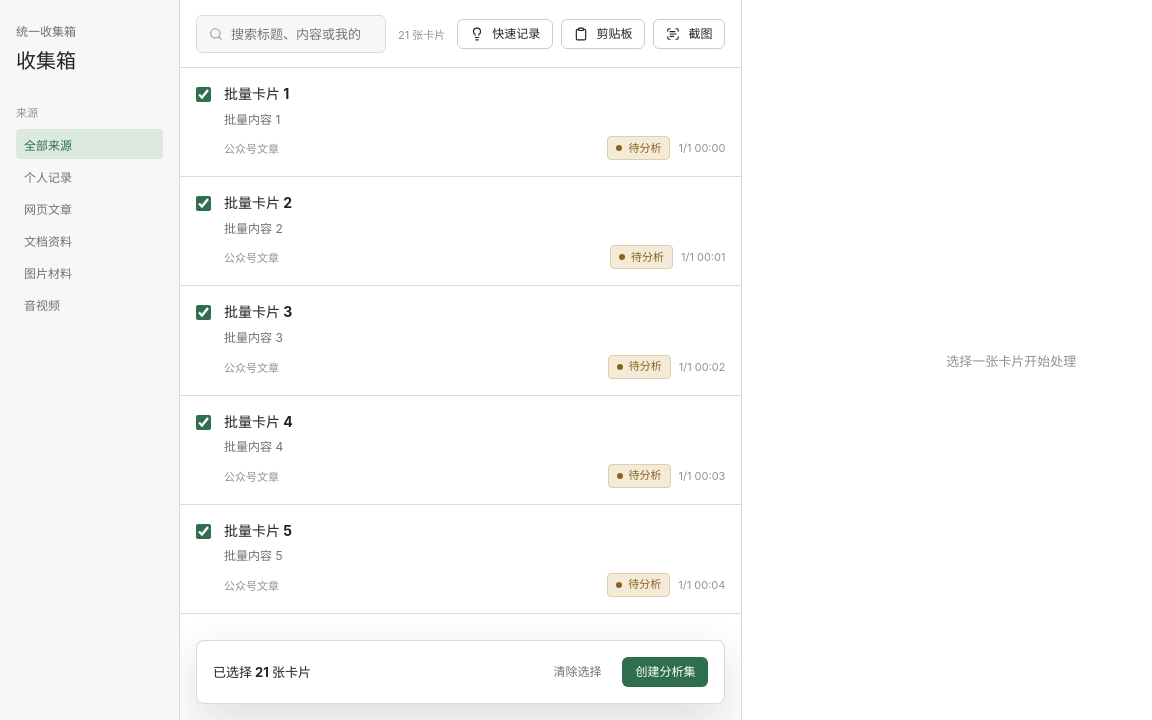
it: InboxPage › clears the limit error when selection drops back to 20 cards
Click the button "创建分析集".
click(665, 672)  # box [622,657,708,687]
(page scrolled)
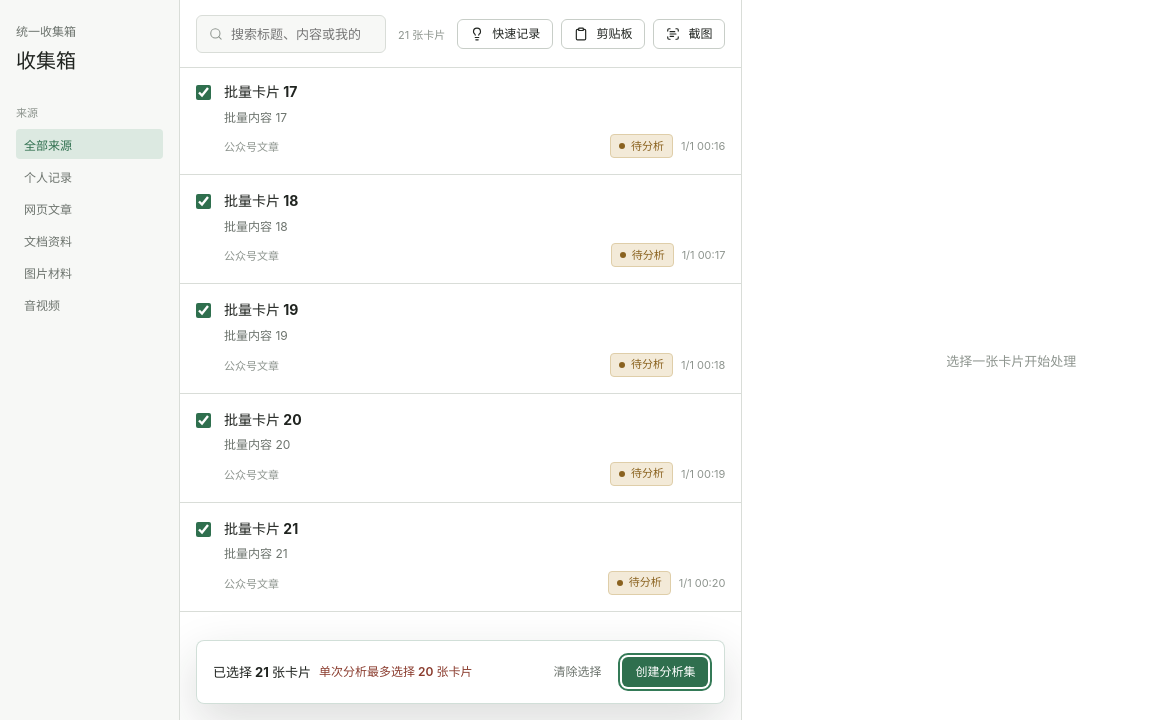
Check: the text "单次分析最多选择 20 张卡片" is shown, box [319,664,472,680]
Click the checkbox named "选择「批量卡片 21」".
click(204, 529)  # box [196,522,211,537]
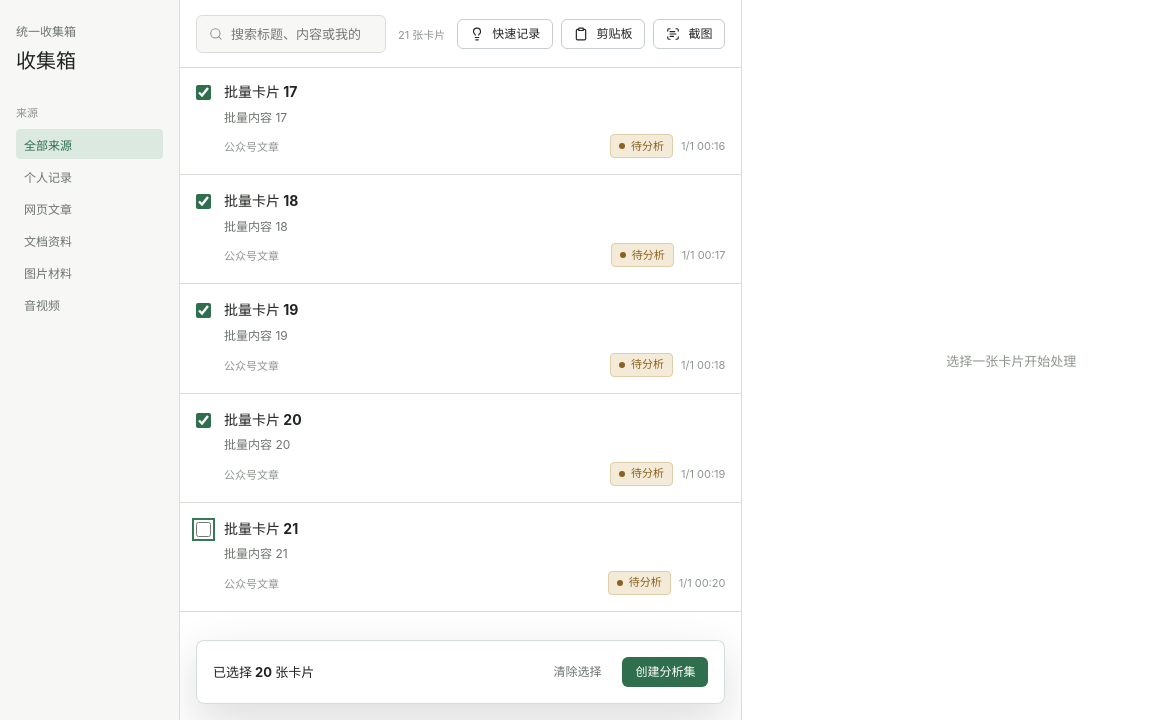
Check: the text "单次分析最多选择 20 张卡片" is gone
